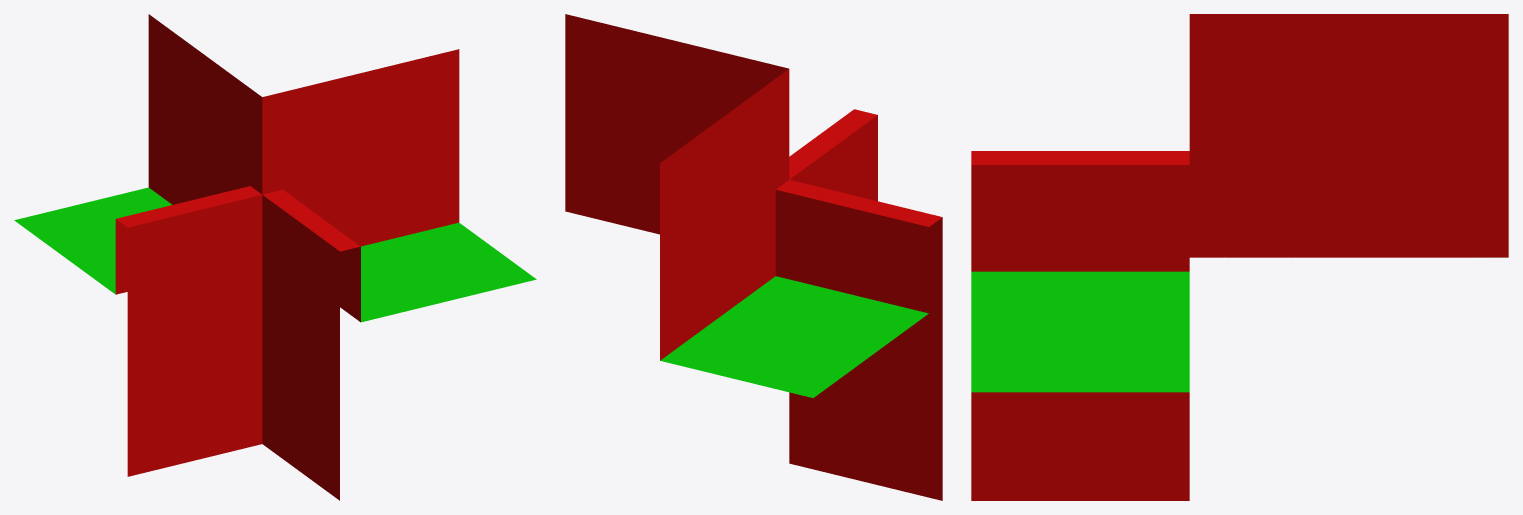
The picture shows the model from 3 angles, left to right: view 1: azimuth 30°, elevation 25°; view 2: azimuth 150°, elevation 25°; view 3: azimuth 270°, elevation 25°; orthographic projection. The views are drawn at different scales.
Visible parts, largest first — view 1: None_A_W_A_E_W_E_E_E_None; view 2: None_A_W_A_E_W_E_E_E_None; view 3: None_A_W_A_E_W_E_E_E_None.
Part boxes in pixels (x1,y1,x2,y2): None_A_W_A_E_W_E_E_E_None: (14,14,536,500); None_A_W_A_E_W_E_E_E_None: (565,14,942,500); None_A_W_A_E_W_E_E_E_None: (971,14,1508,500).
Bounding box in the file's own units: 100 × 100 × 100.
